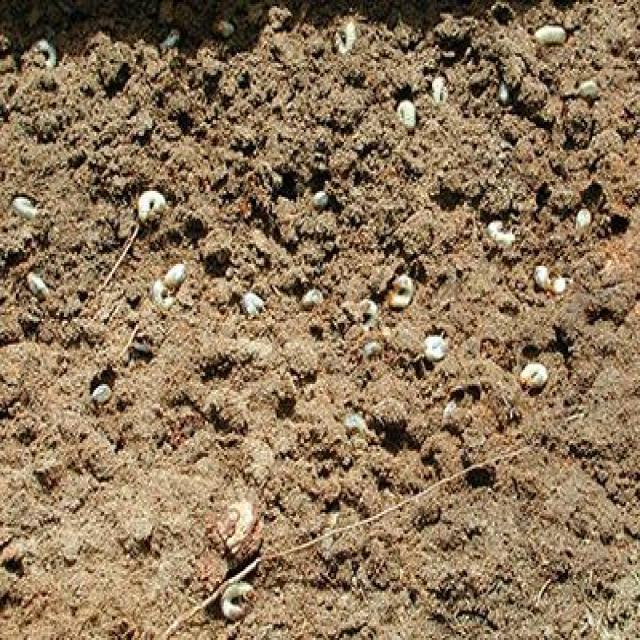Grub-Adult-: (314, 12, 376, 70), (528, 13, 590, 69), (484, 209, 535, 272), (5, 172, 54, 229), (25, 29, 70, 84), (216, 575, 261, 629), (392, 85, 428, 152), (388, 264, 426, 324), (134, 188, 174, 240), (527, 261, 573, 303), (509, 355, 548, 401), (568, 206, 595, 242)
